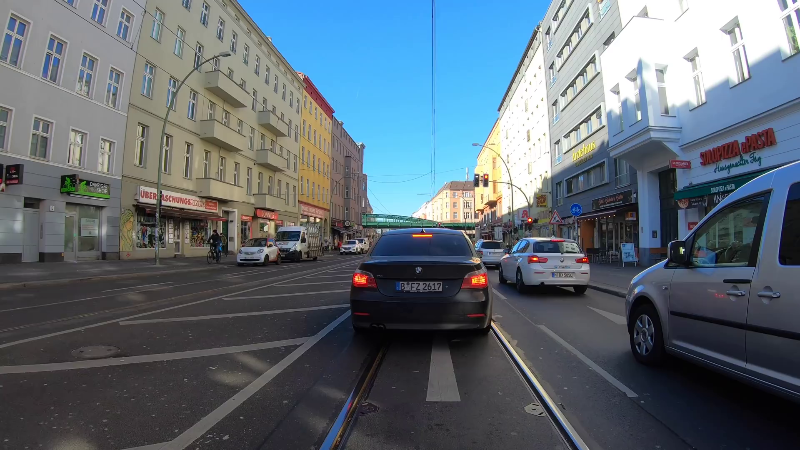Plate: (393, 279, 445, 294), (551, 271, 575, 278)
